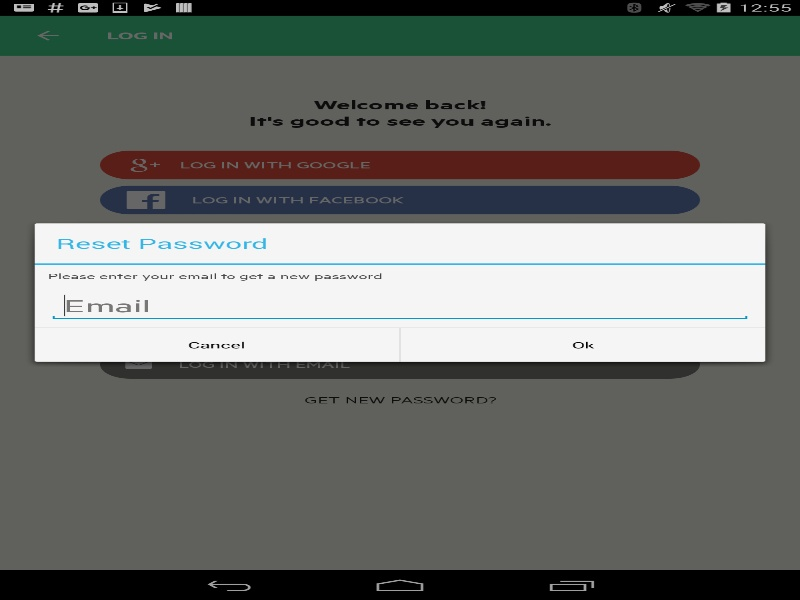Button: (34, 328, 399, 361), (400, 328, 765, 361)
Input: (48, 290, 752, 321)
